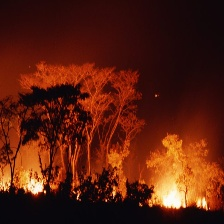fire: (158, 189, 190, 210), (27, 178, 46, 197)
